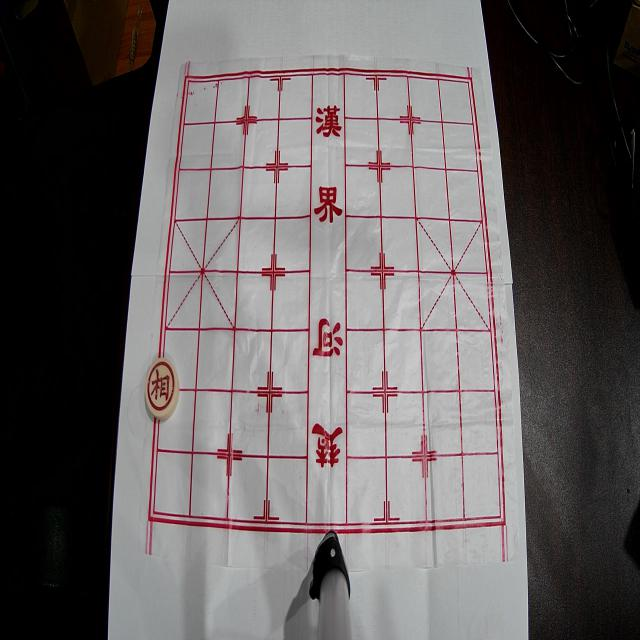red-elephant: (146, 358, 180, 420)
